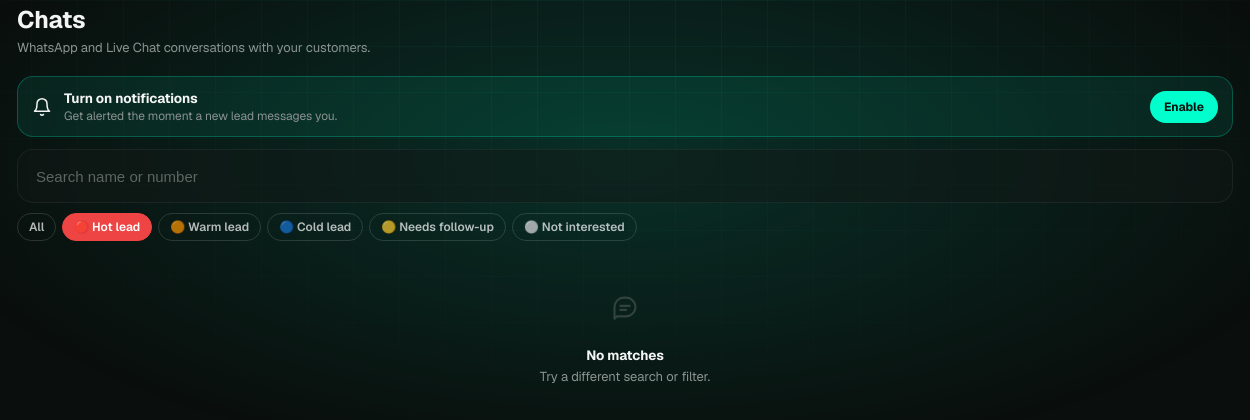
Scenario: Chats › lists contacts with preview and unread badge
The image size is (1250, 420).
Click the button "All" at (37, 227), box [17,213,56,241]
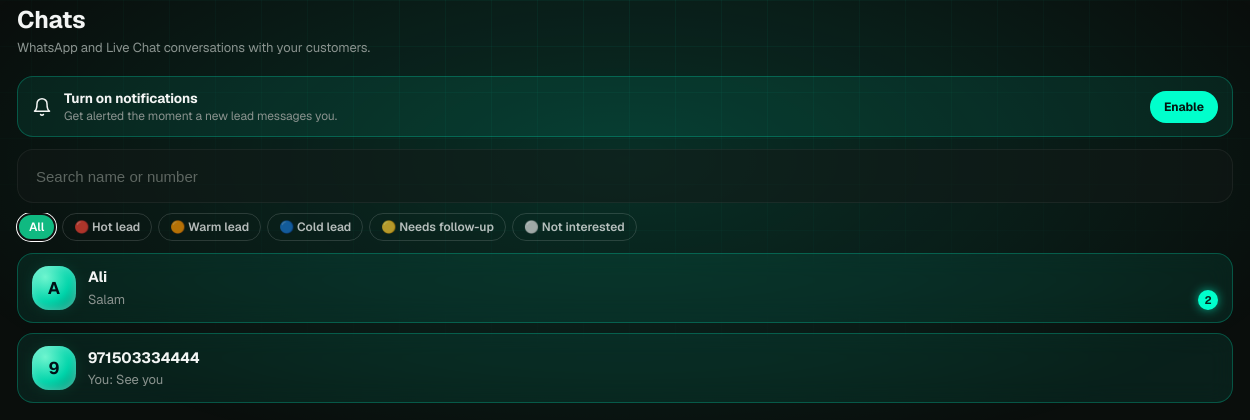
Expected: the text "Ali" is shown, [88,266,107,286]
Expected: the text "Salam" is shown, [88,291,125,308]
Expected: the text "2" is shown, [1198,290,1218,310]
